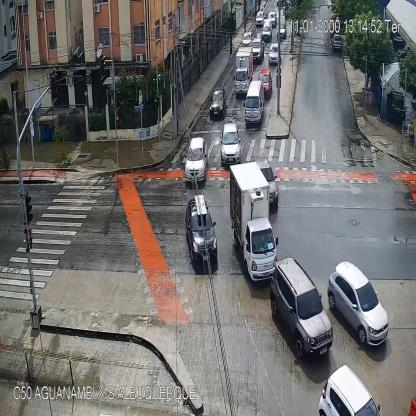car: (270, 258, 333, 358), (328, 259, 390, 345), (318, 365, 380, 416), (185, 198, 217, 266), (254, 156, 279, 215), (184, 136, 208, 184), (219, 122, 240, 165), (244, 80, 263, 122), (209, 88, 228, 117), (257, 69, 271, 98), (251, 38, 264, 62), (269, 42, 282, 64), (261, 18, 273, 38), (277, 22, 287, 42), (242, 32, 254, 46), (332, 34, 342, 50), (256, 9, 264, 25), (268, 12, 275, 27)
truck: (231, 163, 280, 280), (233, 48, 252, 90)
